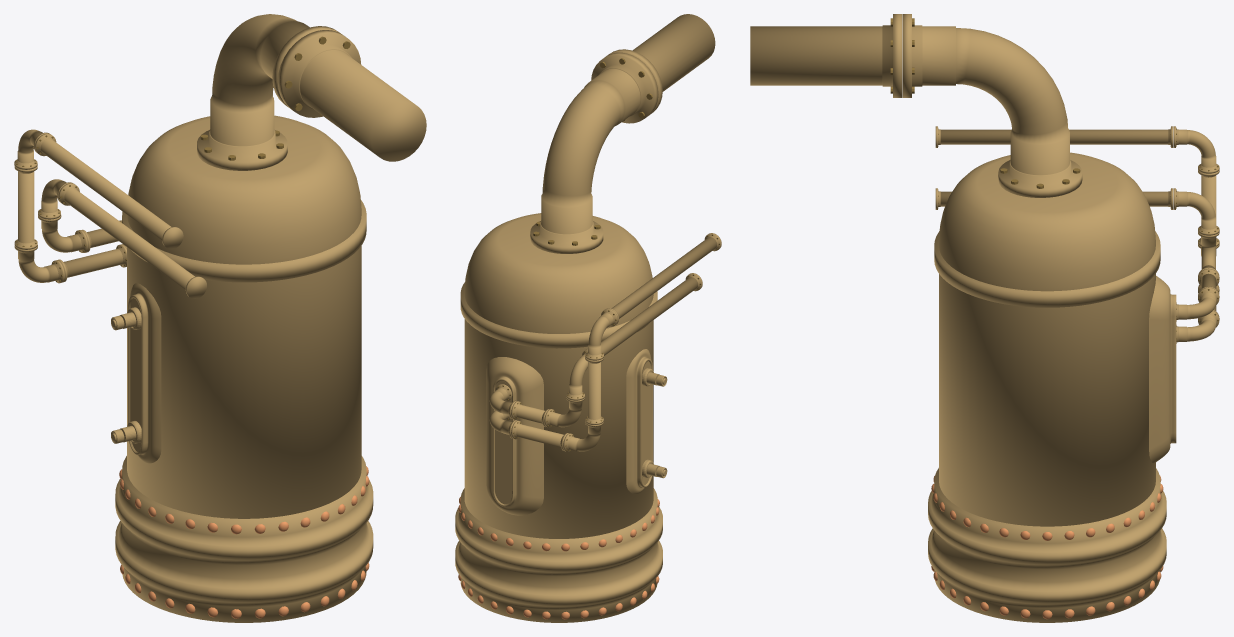
The model's file is Reservoir.fbx.
3 views of the same model, side by side, from view 1: azimuth 30°, elevation 25°; view 2: azimuth 150°, elevation 25°; view 3: azimuth 270°, elevation 25° (orthographic). The views are drawn at different scales.
Parts seen in each view (by area): view 1: Reservoir; view 2: Reservoir; view 3: Reservoir.
Part boxes in pixels (x1,y1,x2,y2): Reservoir: [14, 14, 426, 622]; Reservoir: [455, 14, 721, 622]; Reservoir: [750, 14, 1219, 622].
Bounding box in the file's own units: 7167 × 16218 × 12431.
